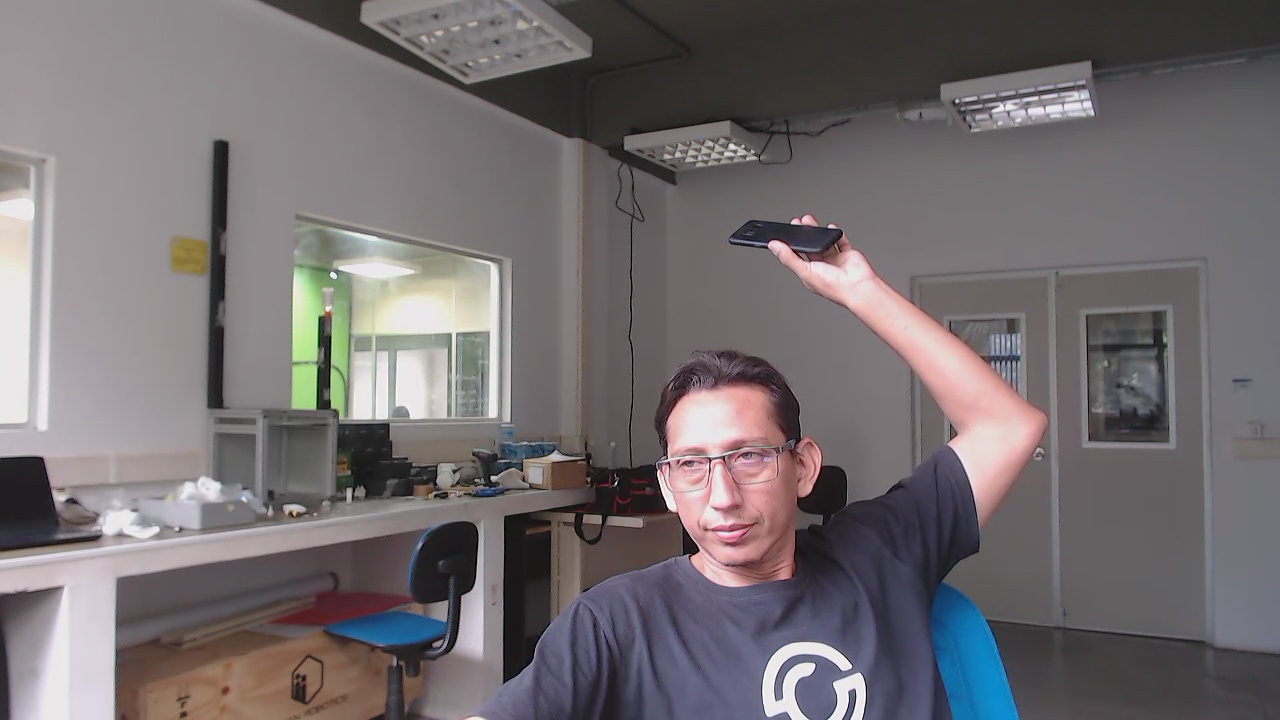Cell phone: (732, 223, 849, 261)
